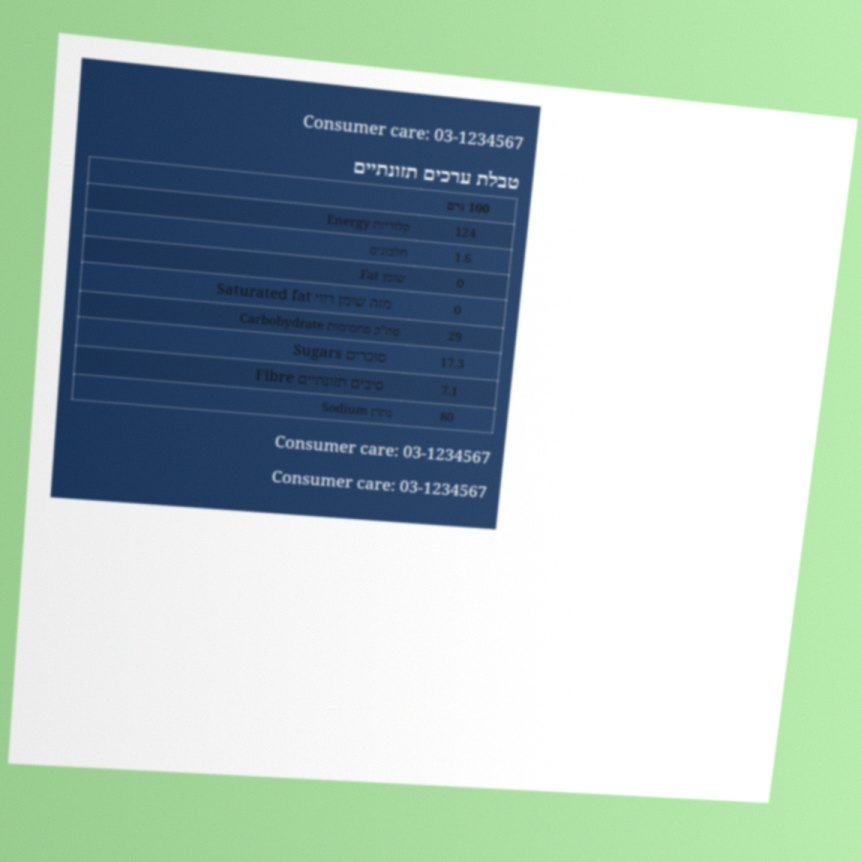carbs: (445, 326, 465, 347)
energy: (452, 221, 479, 244)
fat: (454, 273, 467, 293)
protein: (451, 247, 475, 269)
